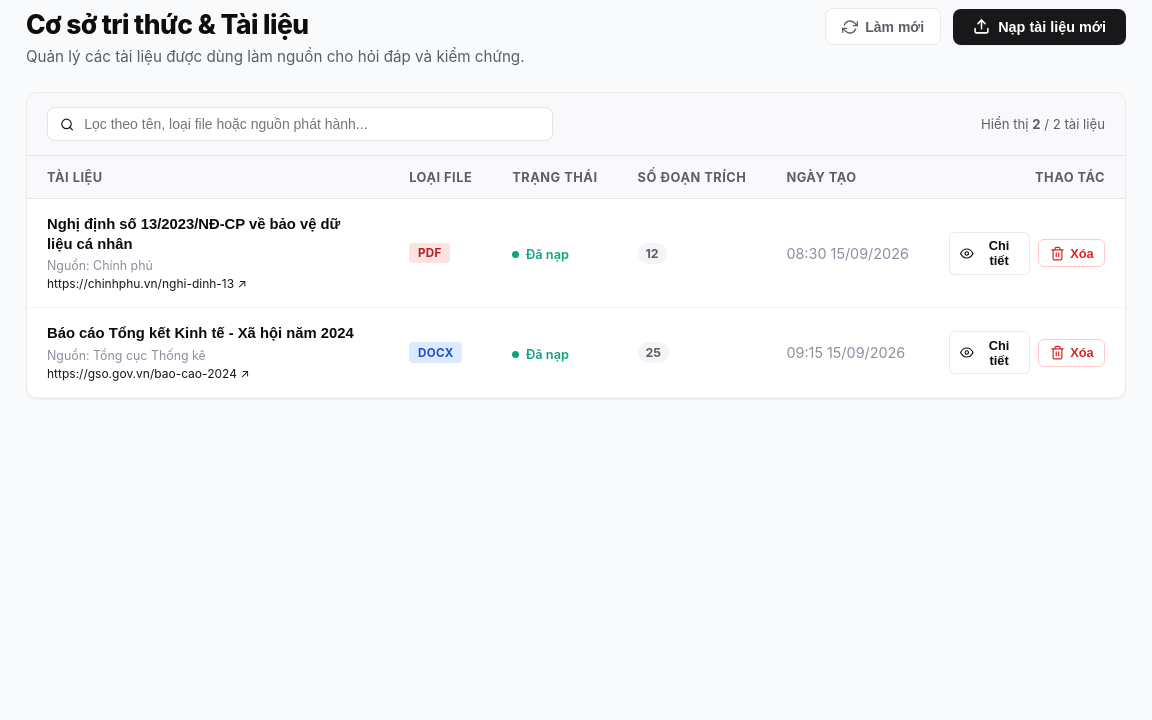
Test: Documents & Knowledge Base Feature (FE-04.5A) › 3. Document Detail & Chunk Viewer › opens DocumentChunkViewer and displays chunk list with index, content, and metadata
// Click view on Doc 1
Click the button with test id "btn-view-doc-doc-uuid-001".
click(990, 253)  # box [949,232,1030,275]
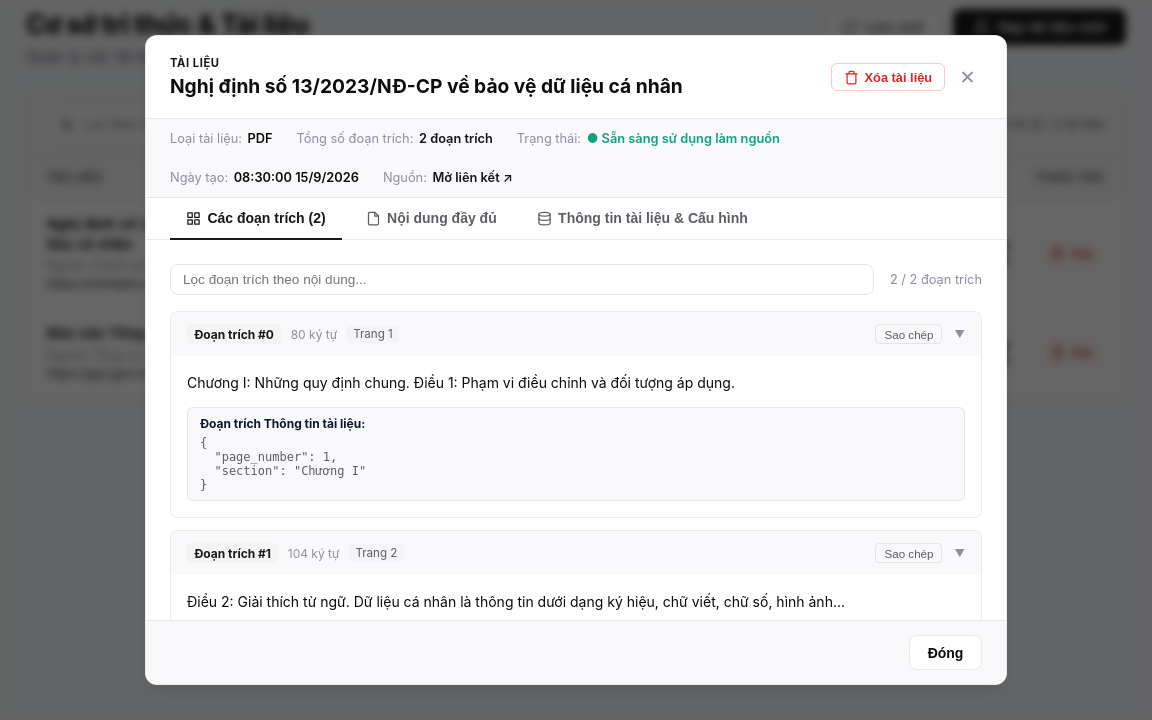
Check: the dialog with test id "chunk-viewer-modal" is shown
Check: the heading with test id "viewer-doc-title" shows "Nghị định số 13/2023/NĐ-CP", box [170,74,683,98]
Check: the text with test id "viewer-chunks-count" reads "2 đoạn trích", box [419,131,493,146]
// Toggle Raw Content tab
Click the tab with test id "tab-view-raw".
click(431, 219)  # box [350,198,513,240]
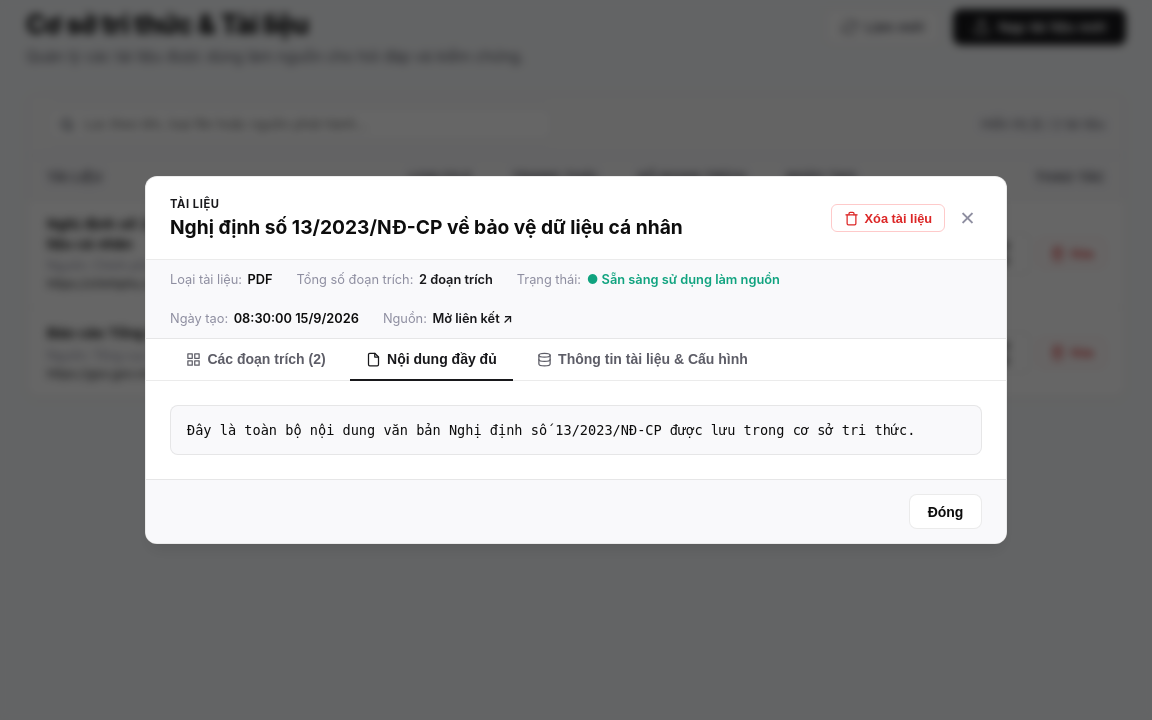
Check: the text with test id "raw-content-text" shows "Đây là toàn bộ nội dung văn bản", box [187,422,915,438]
// Toggle Metadata tab
Click the tab with test id "tab-view-metadata".
click(642, 360)  # box [521,339,764,381]
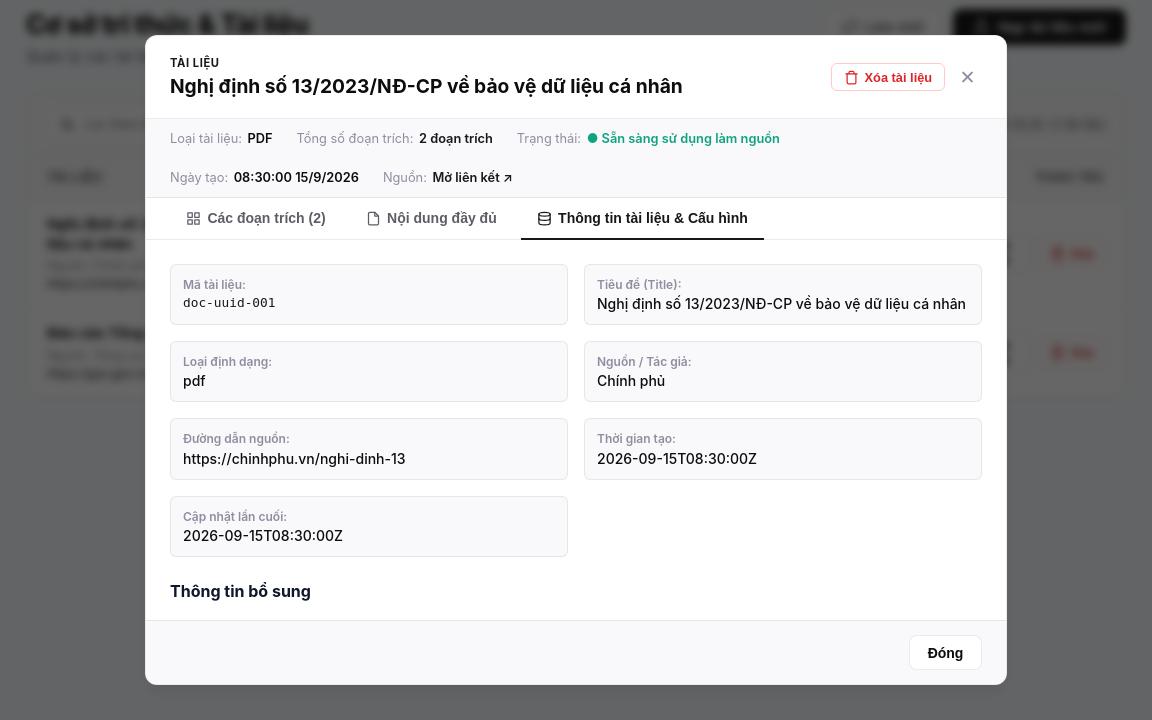
Check: the text with test id "meta-val-id" reads "doc-uuid-001", box [183,295,276,310]
// Close modal
Click the button with test id "btn-close-chunk-viewer".
click(968, 77)  # box [953,62,982,92]
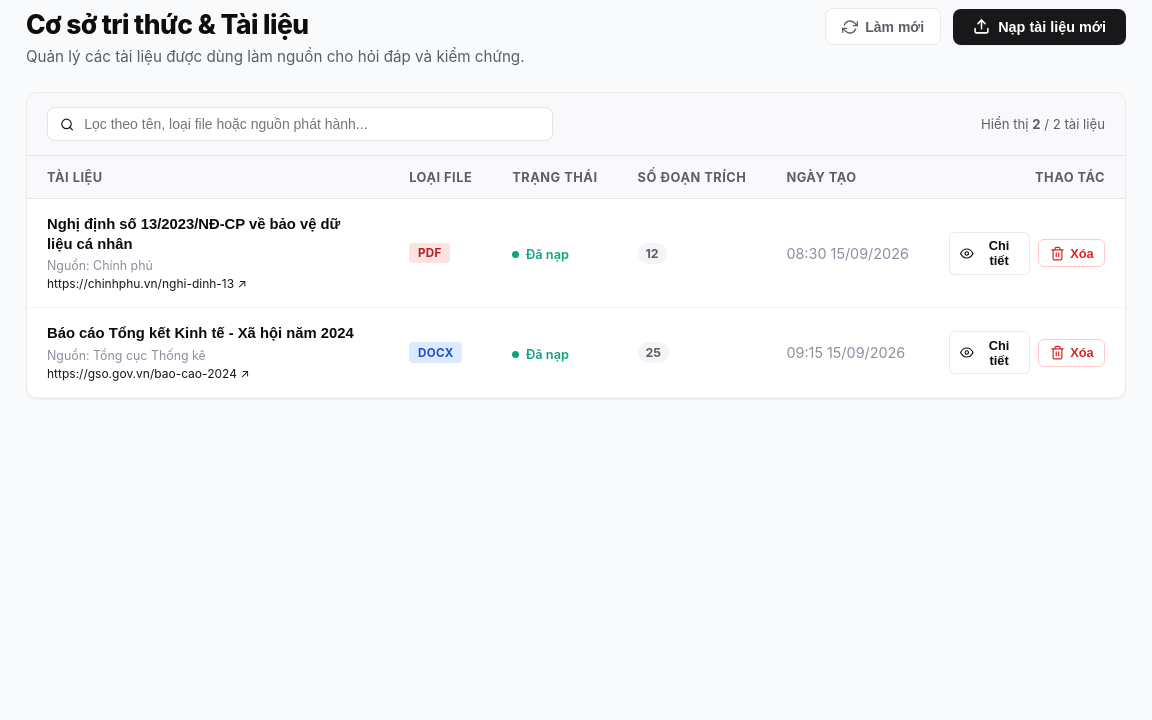
Check: the dialog with test id "chunk-viewer-modal" is gone
